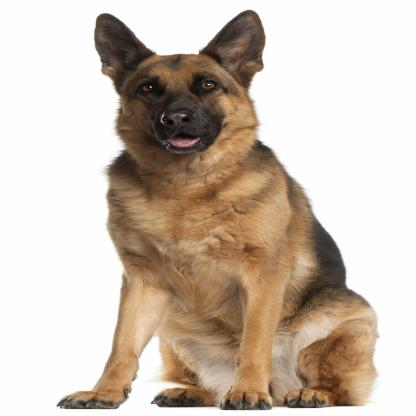dog: (68, 6, 384, 404)
